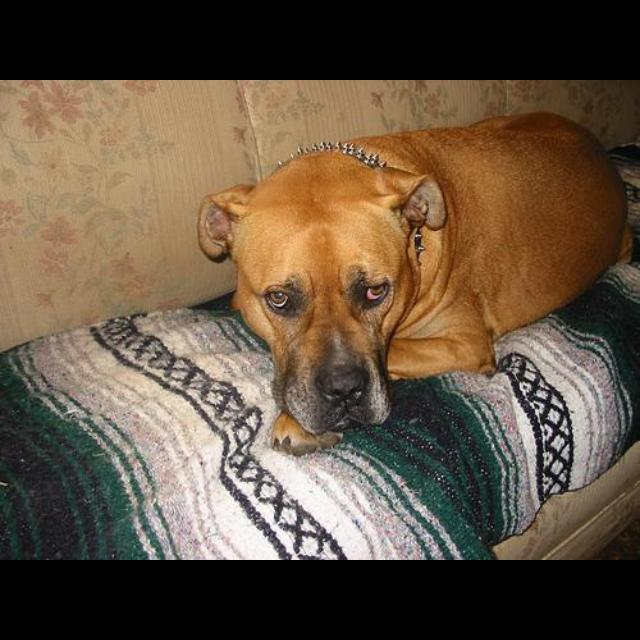bullmastiff: (198, 111, 635, 457)
